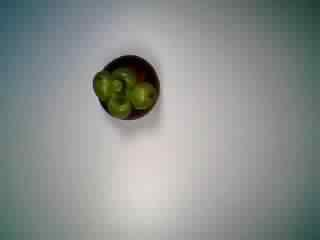mangosteen: (89, 50, 162, 130)
